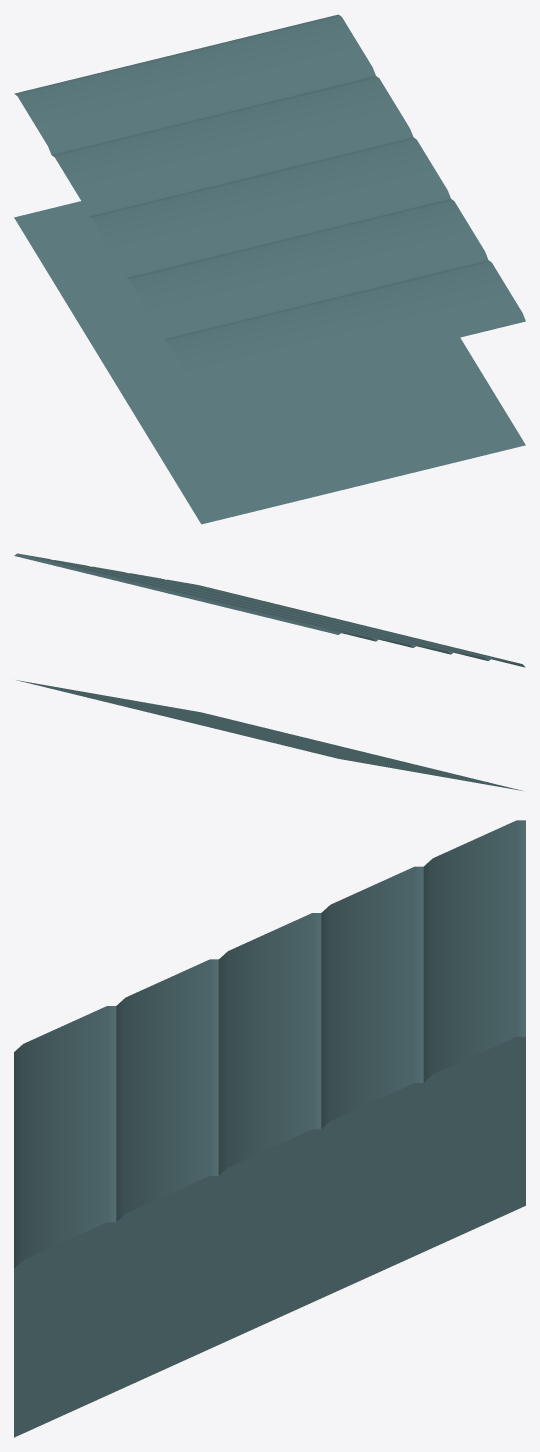
File: CA_139_141_cosmodrome_floor_slope.glb
3 renders of one model, top to bottom at view 1: azimuth 30°, elevation 25°; view 2: azimuth 150°, elevation 25°; view 3: azimuth 270°, elevation 25°, orthographic. The views are drawn at different scales.
Visible parts, largest first — view 1: slope; view 2: slope; view 3: slope.
Boxes of the visible parts, box(x1,y1,x2,y2) form: slope: box(14, 14, 525, 524); slope: box(14, 553, 525, 790); slope: box(14, 820, 525, 1437).
Size of the model in its own units: 0.75 by 0.6483 by 0.75.
